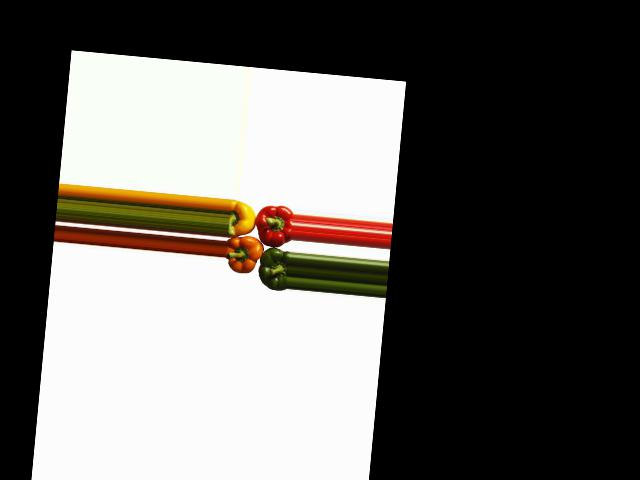bell_pepper: (226, 198, 259, 241)
